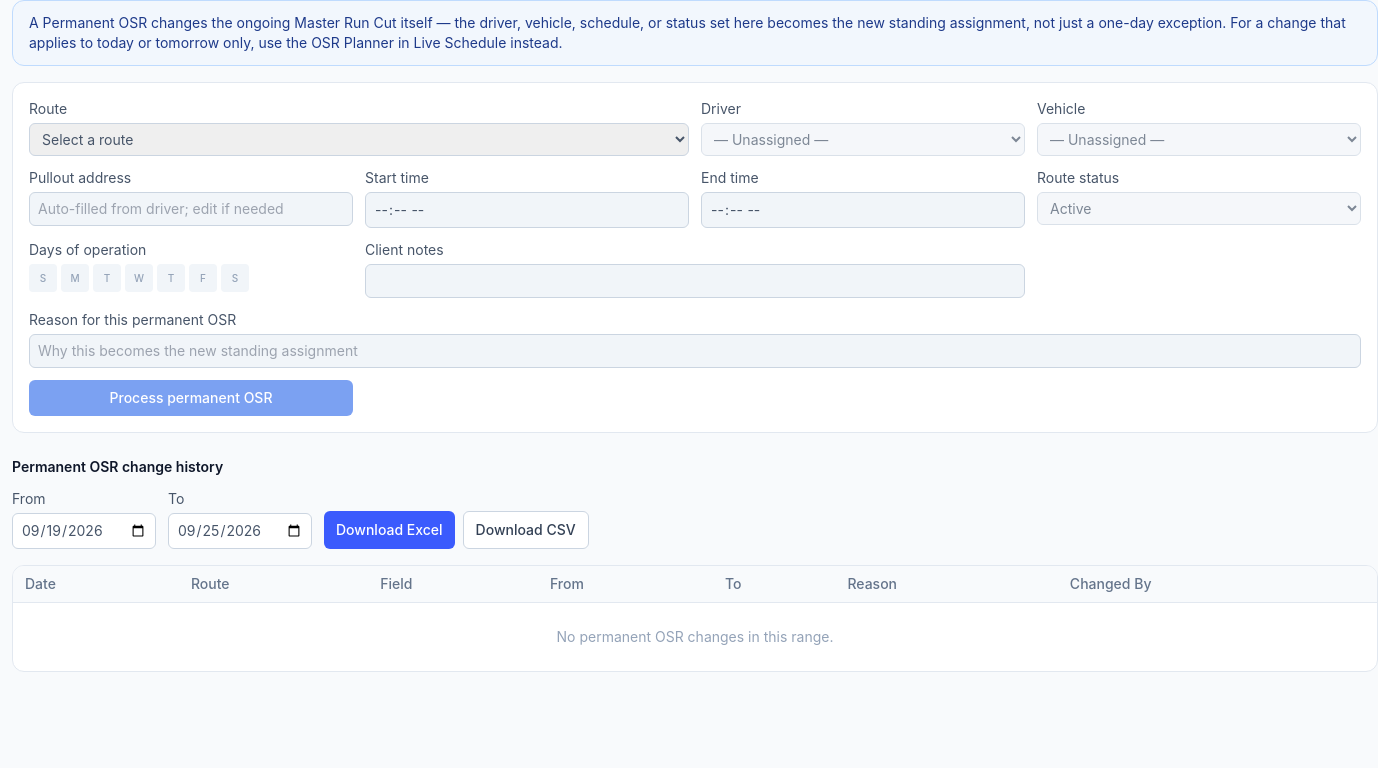
Test: processing a permanent OSR refreshes the change history below it
Expected: the text "No permanent OSR changes in this range." is shown, left=13, top=602, right=1377, bottom=671
Select "1029-B" in the dropdown showing "Select a route" at (359, 140), box left=29, top=123, right=689, bottom=156
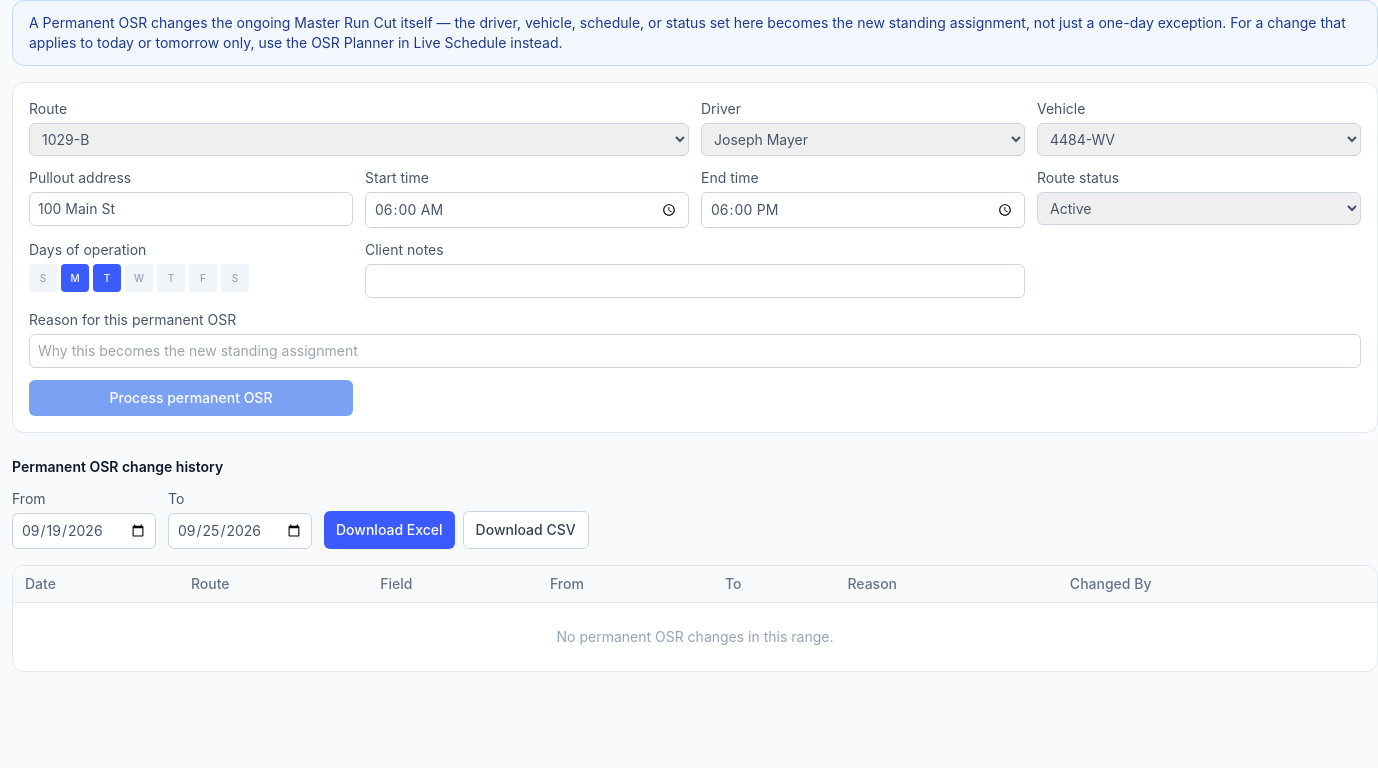
Type "Client requested a permanent driver change" into the field labelled "Permanent OSR reason".
click(695, 351); type("Client requested a permanent driver change")  # box left=29, top=334, right=1361, bottom=368
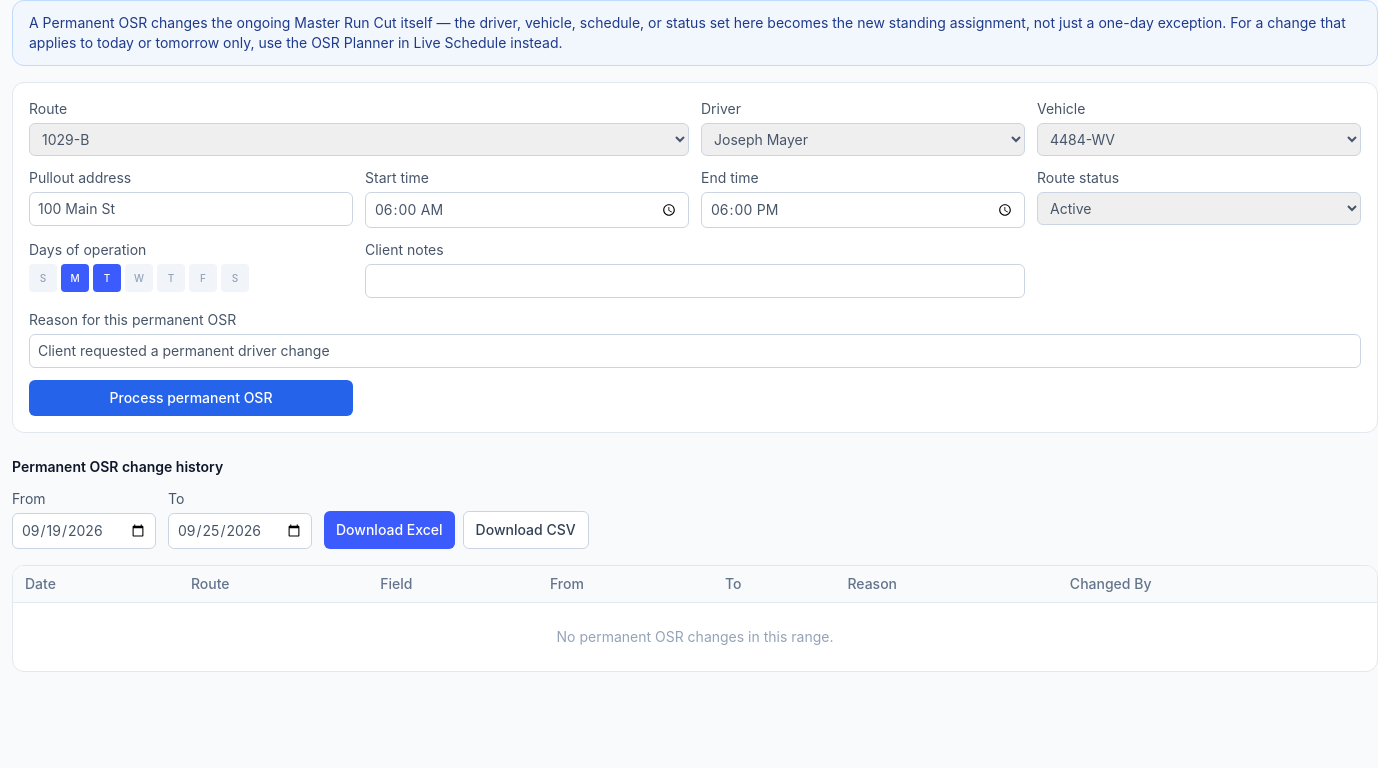
Click the button "Process permanent OSR".
click(191, 398)  # box left=29, top=380, right=353, bottom=416
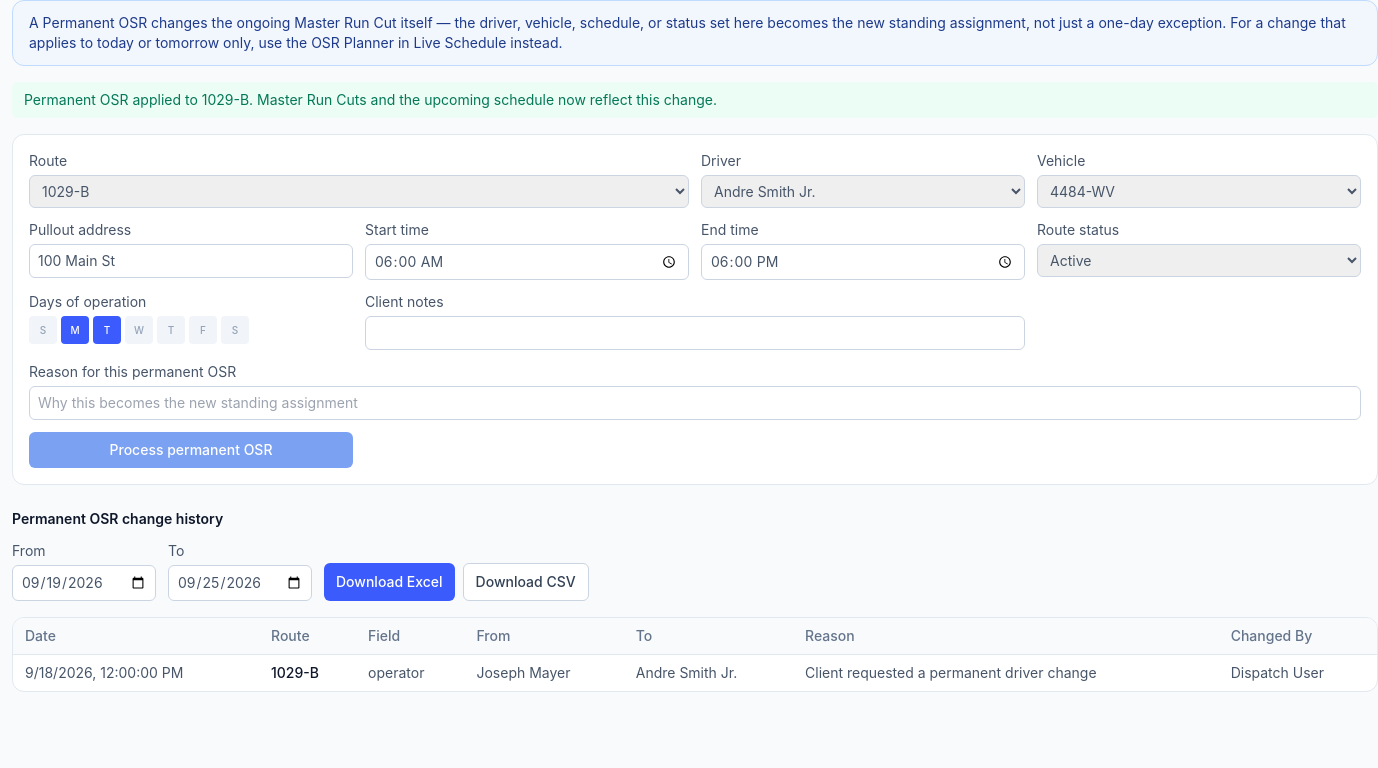
Now the text "Andre Smith Jr." is shown, box left=624, top=654, right=793, bottom=691
